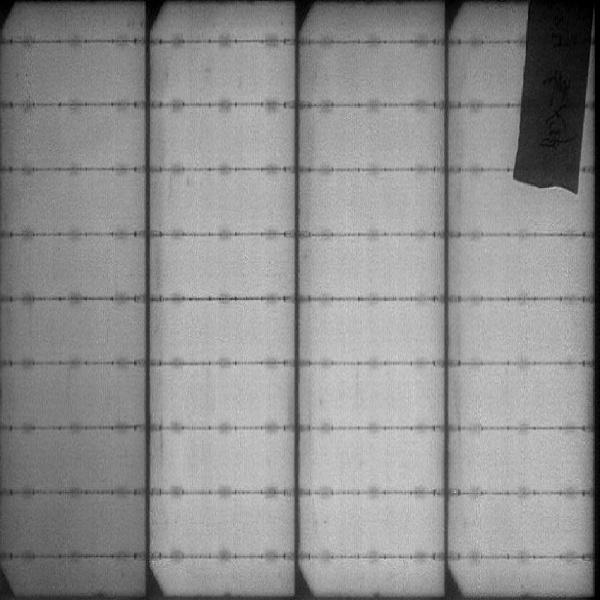broken: (509, 1, 595, 191)
